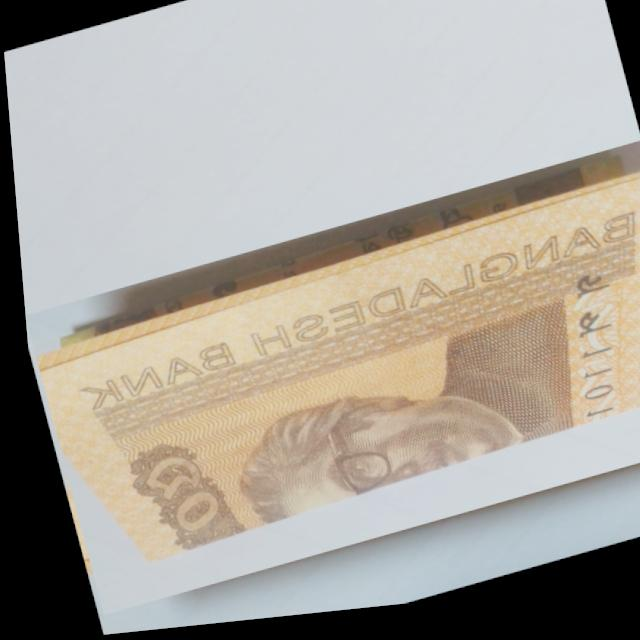Taka: (13, 152, 640, 620)
